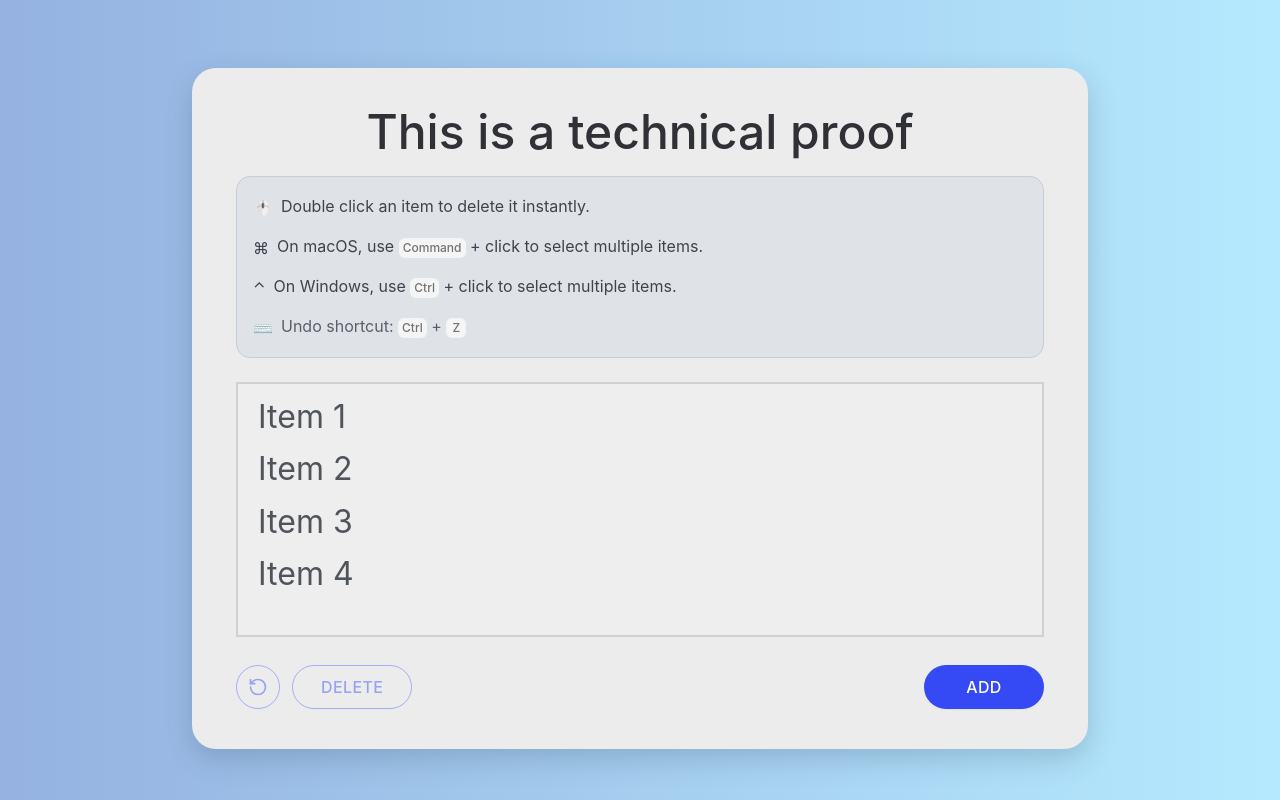
React list app › deletes selected items
The image size is (1280, 800).
Click the list item "Item 2": coordinates (305, 469) 246,444 -> 1034,495
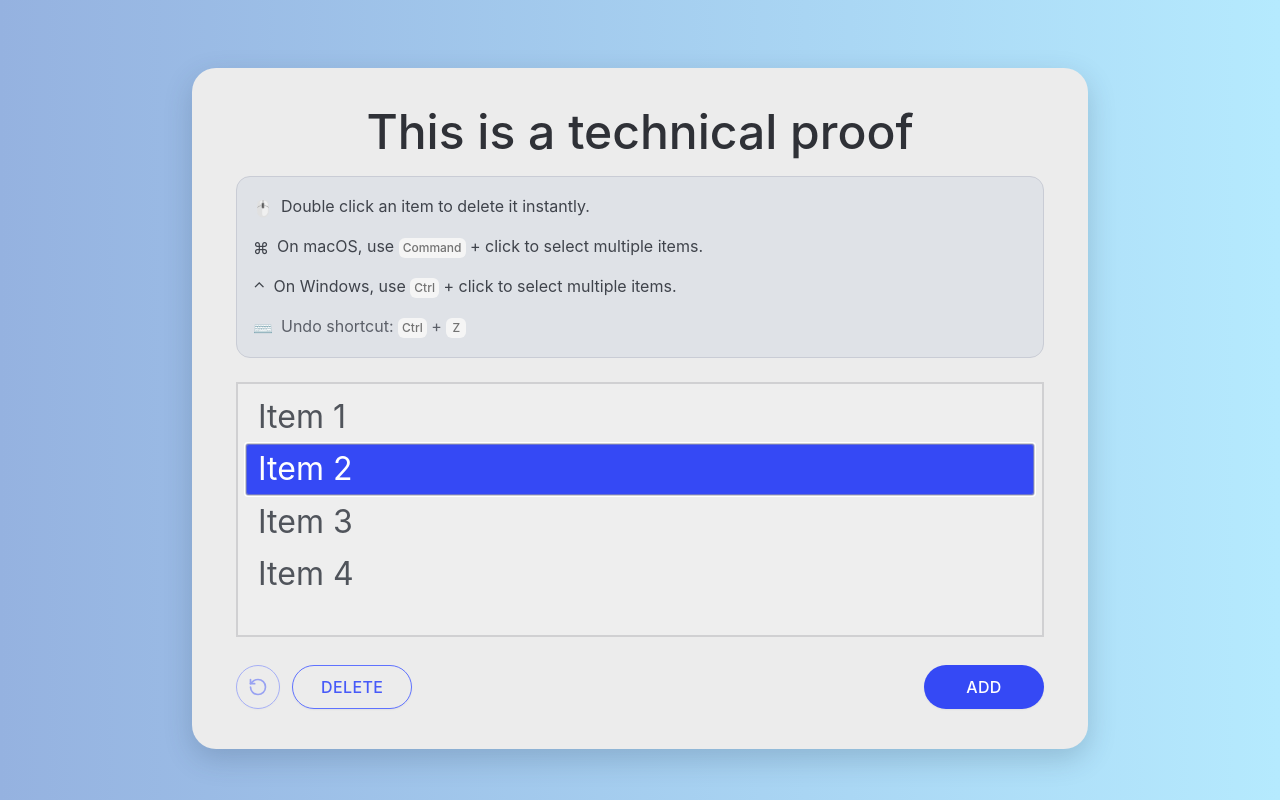
Expected: the button "Delete" is enabled
Click the button "Delete": coordinates (352, 686) 292,664 -> 412,708
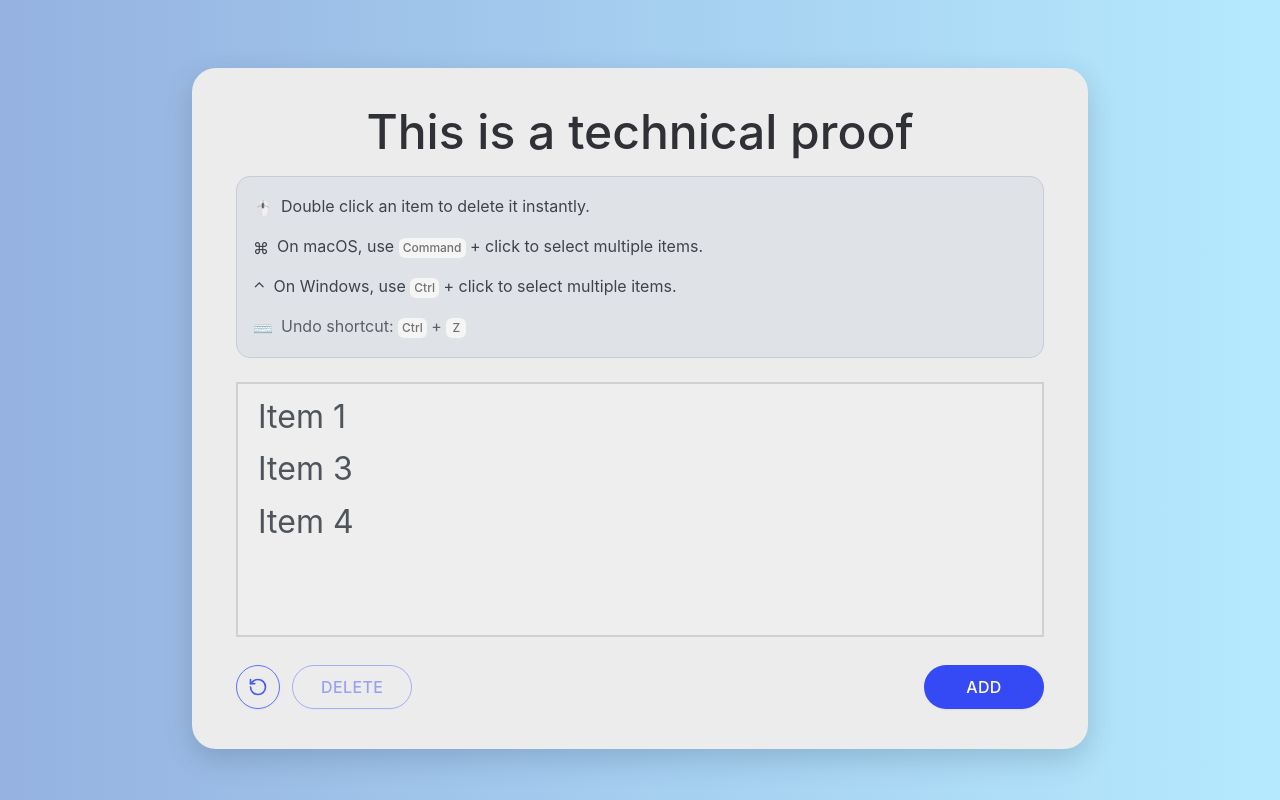
Expected: the list item "Item 2" is gone
